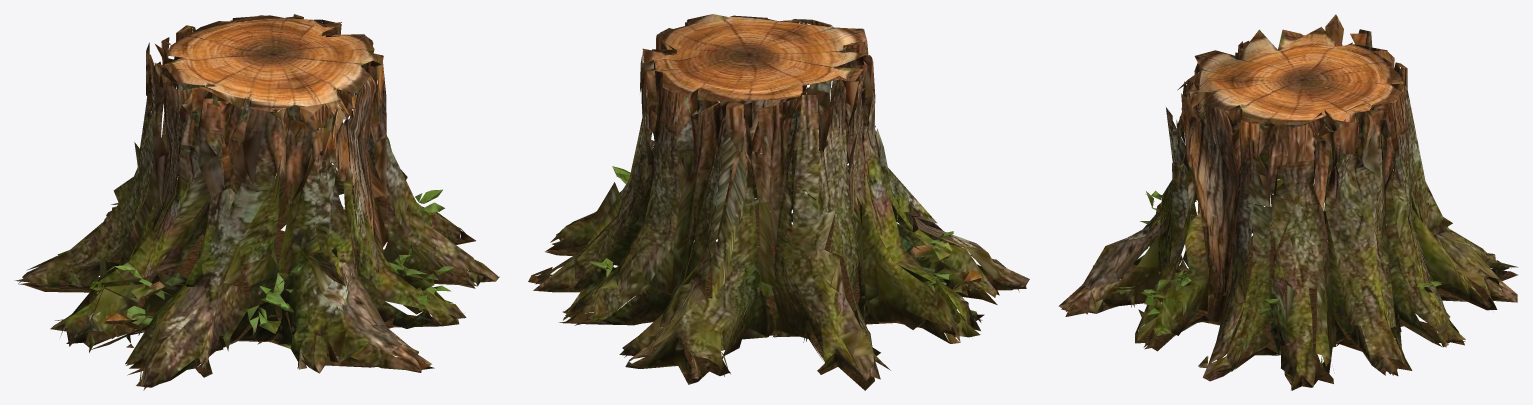
Rendered from toco_lod1.glb.
The picture shows the model from 3 angles, left to right: view 1: azimuth 30°, elevation 25°; view 2: azimuth 150°, elevation 25°; view 3: azimuth 270°, elevation 25°; orthographic projection. The views are drawn at different scales.
Parts seen in each view (by area): view 1: toco; view 2: toco; view 3: toco.
Part boxes in pixels (bbox=[...]): toco: bbox=[14, 14, 499, 390]; toco: bbox=[528, 14, 1029, 390]; toco: bbox=[1058, 14, 1518, 390].
Bounding box in the file's own units: 1.23 × 0.7163 × 1.23.
1 material, 1 textured.
